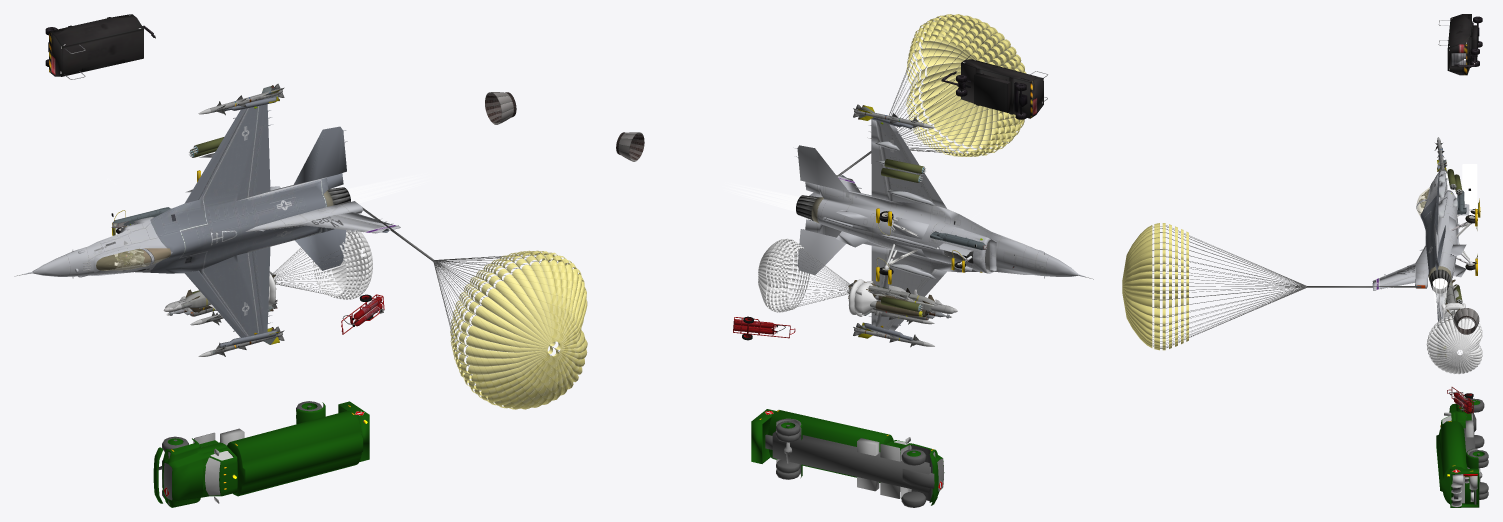
The picture shows the model from 3 angles, left to right: view 1: azimuth 30°, elevation 25°; view 2: azimuth 150°, elevation 25°; view 3: azimuth 270°, elevation 25°; orthographic projection. The views are drawn at different scales.
Visible parts, largest first — view 1: DragChute, RadarDomeTop, tank, GPU, cabin (×2), B61-7_Dragchute, RightUpperHorizonTail, LeftUpperHorizonTail, RightUpperFlap, ExternalFlame, RightUpperLef, CanopyForwardOutside (+4 smaller); view 2: RadarDomeTop, DragChute, frame, GPU, B61-7_Dragchute, tank, LeftLowerHorizonTail, cabin, RightLowerHorizonTail, equipment-box, wheels-back, extinguisher (+5 smaller); view 3: DragChute, B61-7_Dragchute, RadarDomeTop, GPU, tank, equipment, mount, equipment-box, Tail, ExternalFlame.
Part boxes in pixels (x1=…): DragChute: x1=362, y1=207, x2=587, y2=409; RadarDomeTop: x1=32, y1=105, x2=328, y2=336; tank: x1=227, y1=410, x2=363, y2=496; GPU: x1=45, y1=14, x2=155, y2=79; cabin (×2): x1=162, y1=432, x2=237, y2=507; B61-7_Dragchute: x1=273, y1=230, x2=372, y2=299; RightUpperHorizonTail: x1=293, y1=126, x2=347, y2=184; LeftUpperHorizonTail: x1=295, y1=229, x2=346, y2=270; RightUpperFlap: x1=252, y1=128, x2=270, y2=196; ExternalFlame: x1=347, y1=174, x2=427, y2=203; RightUpperLef: x1=184, y1=108, x2=247, y2=203; CanopyForwardOutside: x1=96, y1=249, x2=150, y2=270; RadarDomeTop: x1=817, y1=121, x2=1077, y2=329; DragChute: x1=837, y1=14, x2=1026, y2=176; frame: x1=765, y1=431, x2=934, y2=492; GPU: x1=941, y1=59, x2=1047, y2=119; B61-7_Dragchute: x1=758, y1=238, x2=850, y2=312; tank: x1=768, y1=410, x2=893, y2=482; LeftLowerHorizonTail: x1=797, y1=229, x2=845, y2=274; cabin: x1=880, y1=440, x2=944, y2=502; RightLowerHorizonTail: x1=797, y1=145, x2=848, y2=191; equipment-box: x1=751, y1=409, x2=775, y2=463; wheels-back: x1=776, y1=421, x2=800, y2=479; extinguisher: x1=733, y1=316, x2=795, y2=340; DragChute: x1=1122, y1=223, x2=1421, y2=350; B61-7_Dragchute: x1=1426, y1=313, x2=1482, y2=374; RadarDomeTop: x1=1416, y1=170, x2=1457, y2=325; GPU: x1=1438, y1=14, x2=1482, y2=75; tank: x1=1436, y1=420, x2=1467, y2=503; equipment: x1=1451, y1=469, x2=1477, y2=507; mount: x1=1462, y1=164, x2=1477, y2=215; equipment-box: x1=1450, y1=468, x2=1479, y2=507; Tail: x1=1372, y1=263, x2=1415, y2=290; ExternalFlame: x1=1432, y1=278, x2=1447, y2=317.
Size of what is drawn, in the model's own units: 21.49 by 20.11 by 17.38.
Materials: 321 (225 with a texture image).
